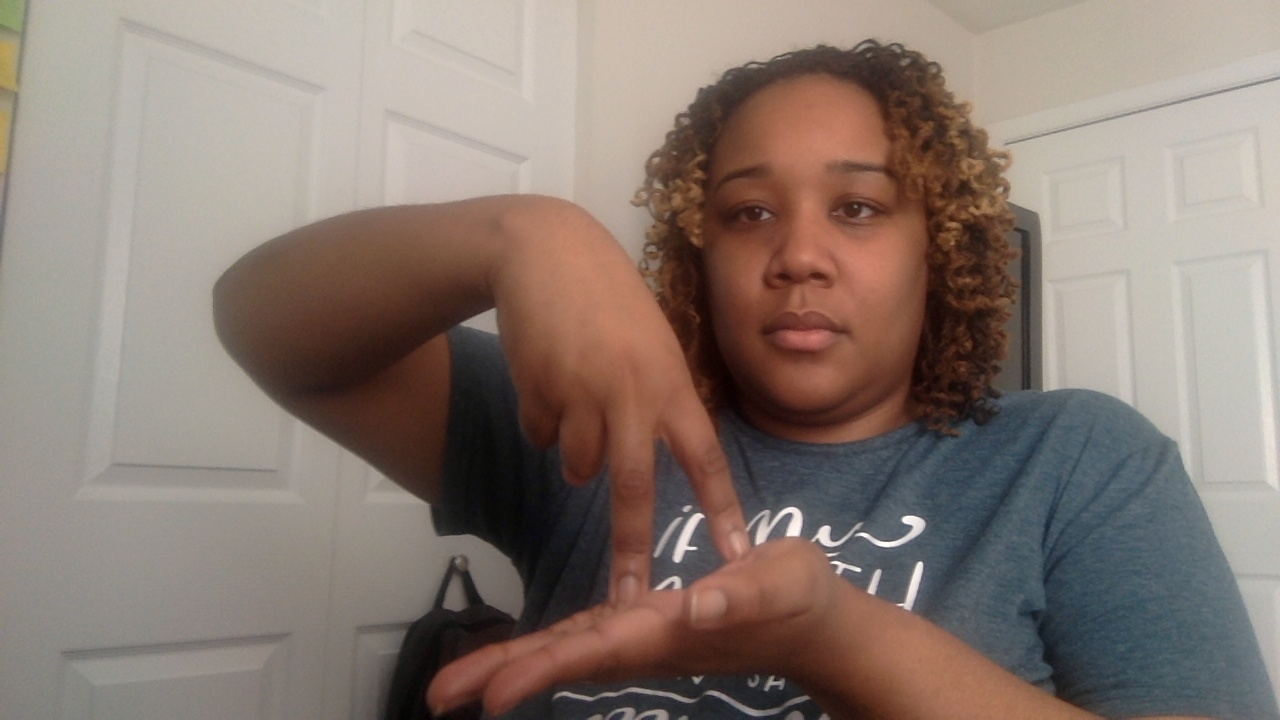fork: (417, 194, 817, 714)
